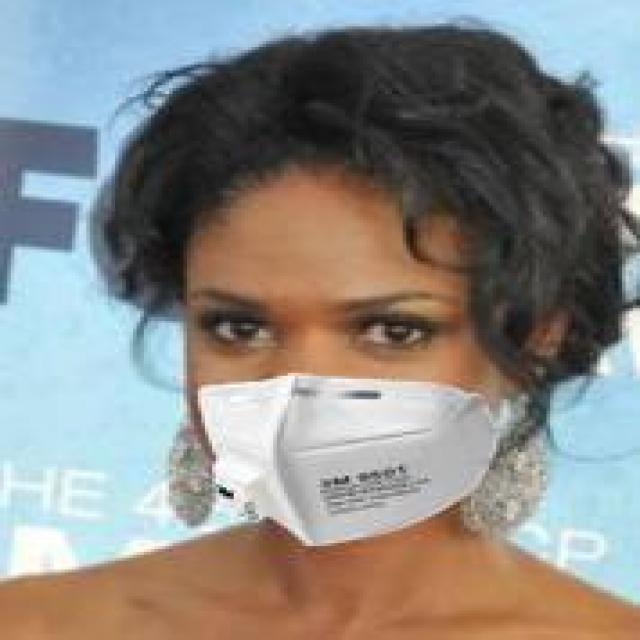mask: (86, 44, 608, 555)
